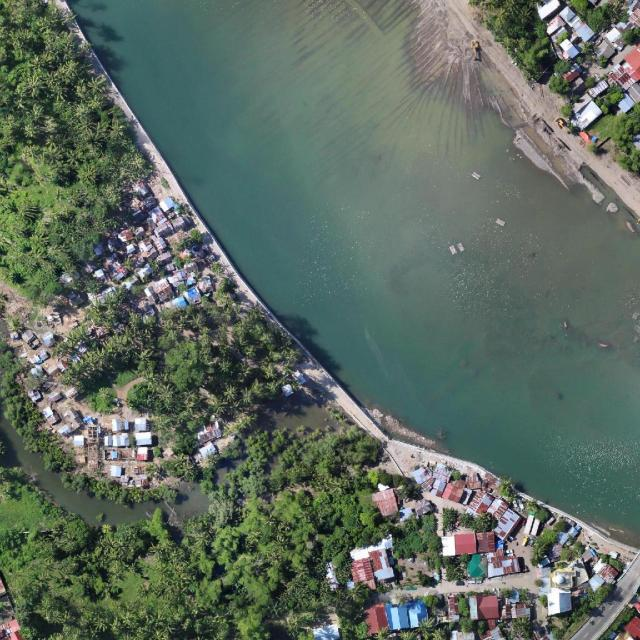building: (49, 177, 205, 343), (30, 380, 199, 494), (148, 209, 227, 310), (442, 588, 535, 640), (61, 307, 122, 365), (126, 274, 189, 328), (364, 593, 429, 638), (349, 538, 397, 587), (44, 308, 85, 332), (22, 329, 61, 349), (312, 623, 341, 640)
greenland: (61, 278, 306, 456), (0, 335, 139, 527)
